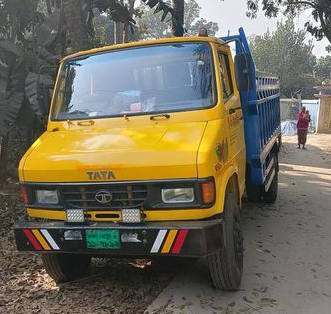Truck: (10, 29, 287, 296)
